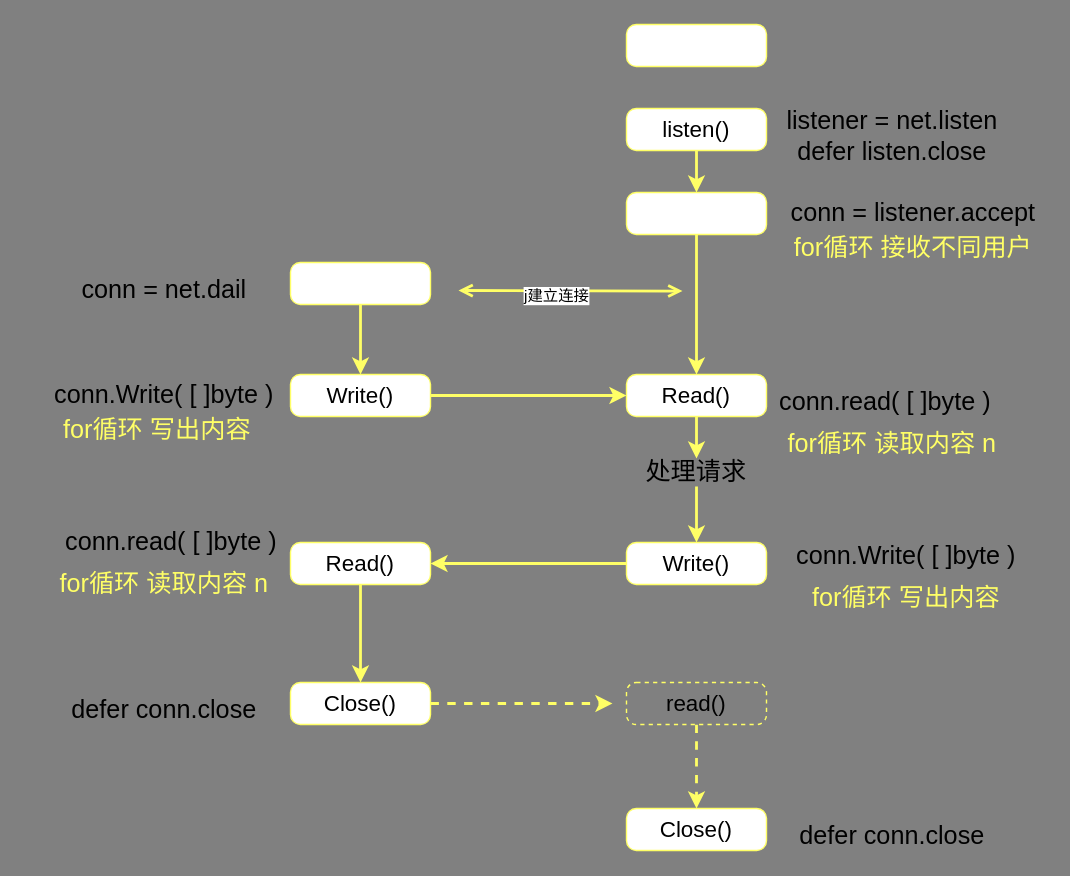
Some shapes in this 1070 by 876 pixel diagram are drawn without their labels. Each missing label, with the centre of its shape:
accept(): (x=695, y=212)
bind(): (x=695, y=44)
connect(): (x=359, y=282)
